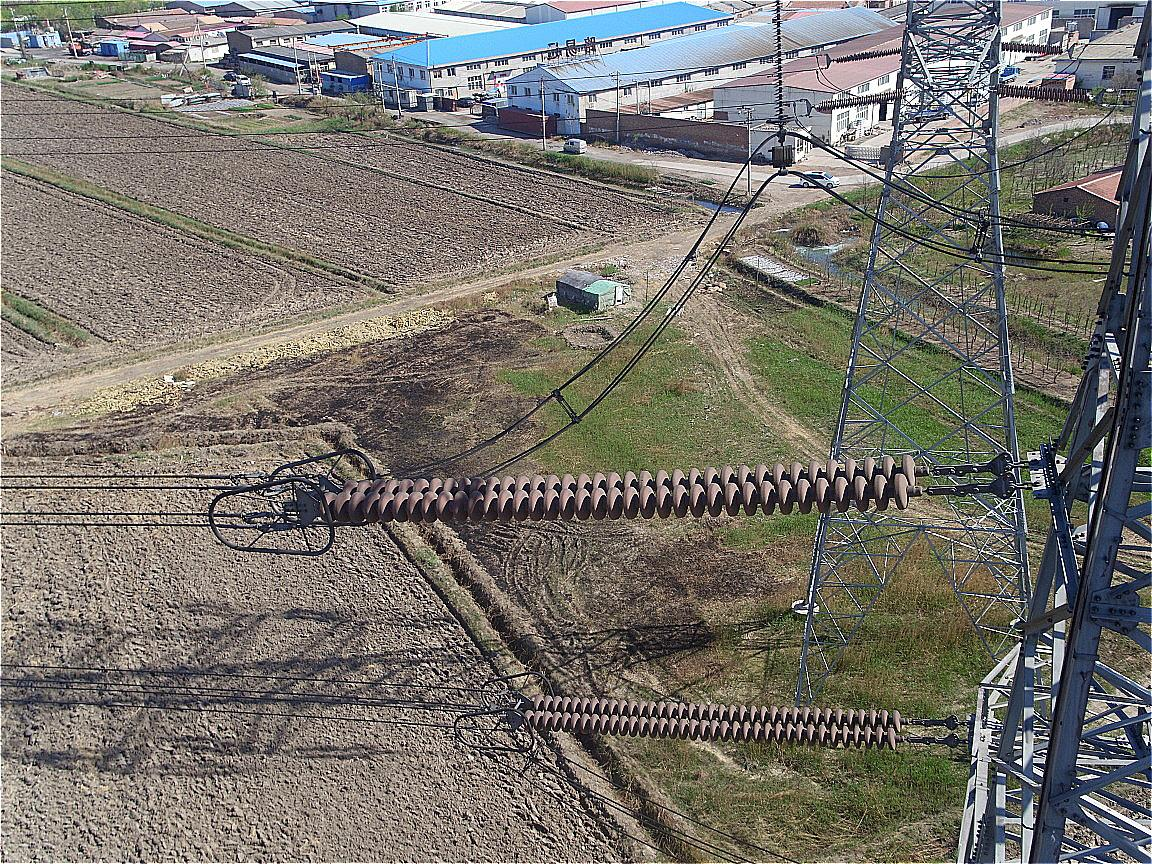insultor1: (318, 454, 917, 523), (533, 696, 906, 751)
insultor2: (818, 88, 904, 111), (1000, 84, 1092, 103), (838, 45, 903, 64), (1000, 40, 1065, 56)
